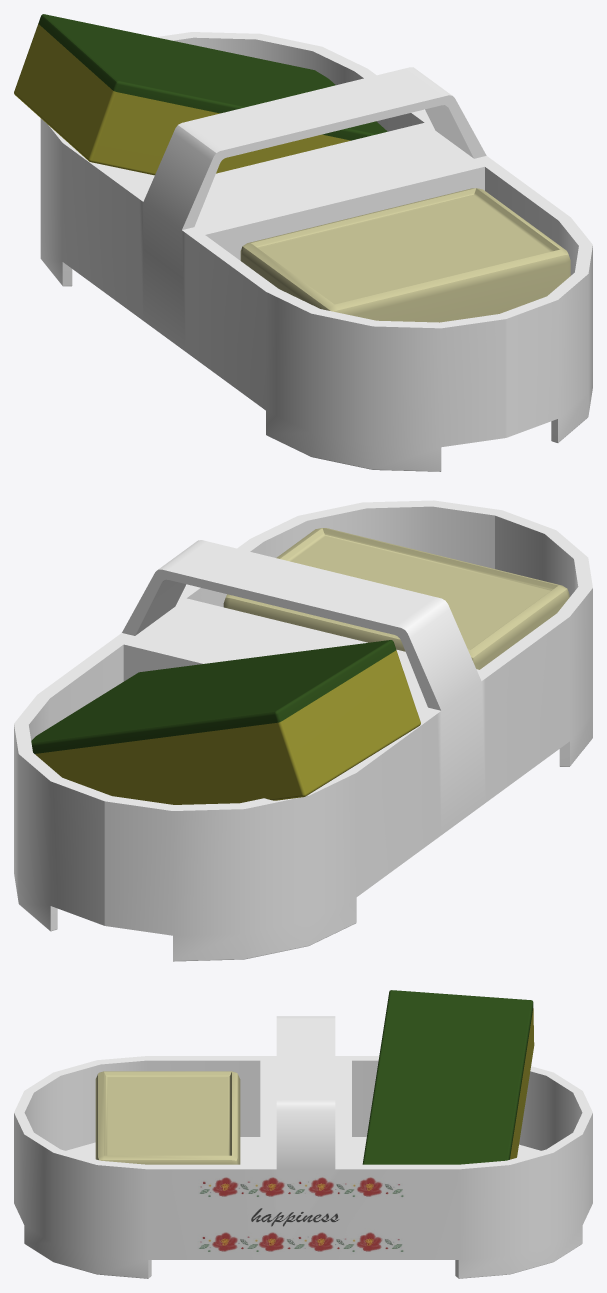
Rendered from sponge.fbx.
3 views of the same model, one above another, from view 1: azimuth 30°, elevation 25°; view 2: azimuth 150°, elevation 25°; view 3: azimuth 270°, elevation 25° (orthographic). The views are drawn at different scales.
Visible parts, largest first — view 1: sponge; view 2: sponge; view 3: sponge.
Boxes of the visible parts, x1,y1,x2,y2 form: sponge: [14, 14, 592, 471]; sponge: [14, 500, 592, 961]; sponge: [14, 990, 592, 1278].
Size of the model in its own units: 0.00576 by 0.00402 by 0.0117.
4 materials, 1 textured.
